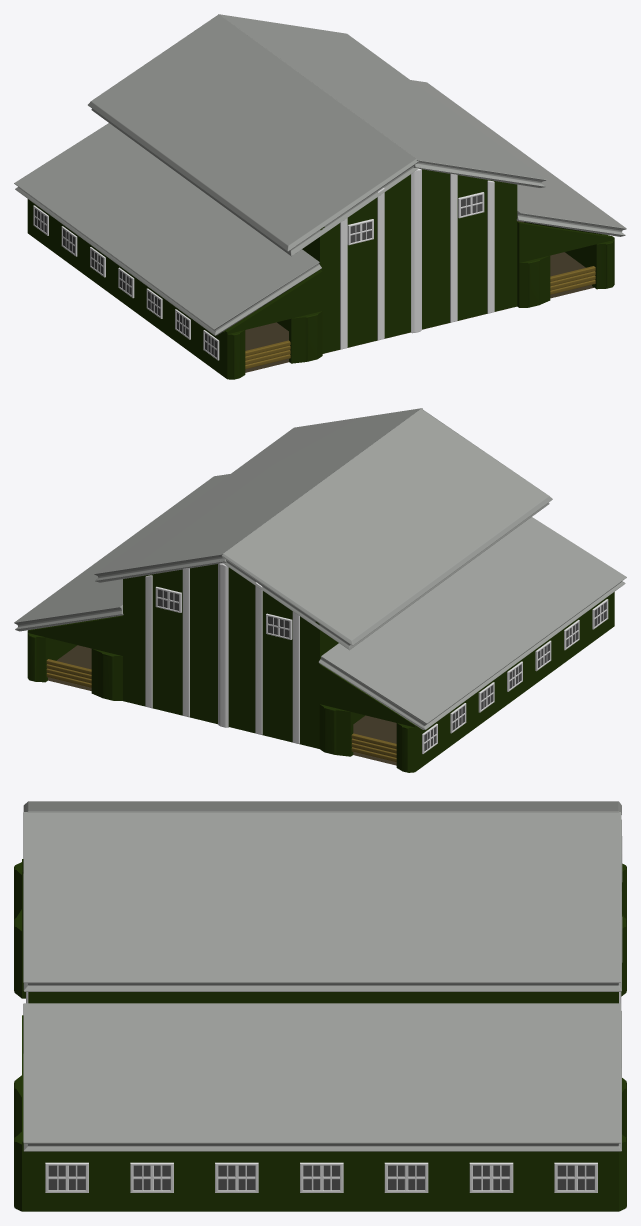
File: house 4.fbx
3 renders of one model, top to bottom at view 1: azimuth 30°, elevation 25°; view 2: azimuth 150°, elevation 25°; view 3: azimuth 270°, elevation 25°, orthographic. The views are drawn at different scales.
Parts seen in each view (by area): view 1: polySurface799; view 2: polySurface799; view 3: polySurface799.
Part boxes in pixels (left/top/right/bottom): polySurface799: left=14, top=14, right=626, bottom=379; polySurface799: left=14, top=408, right=626, bottom=772; polySurface799: left=14, top=801, right=626, bottom=1211.
Size of the model in its own units: 2973 by 1192 by 2555.
